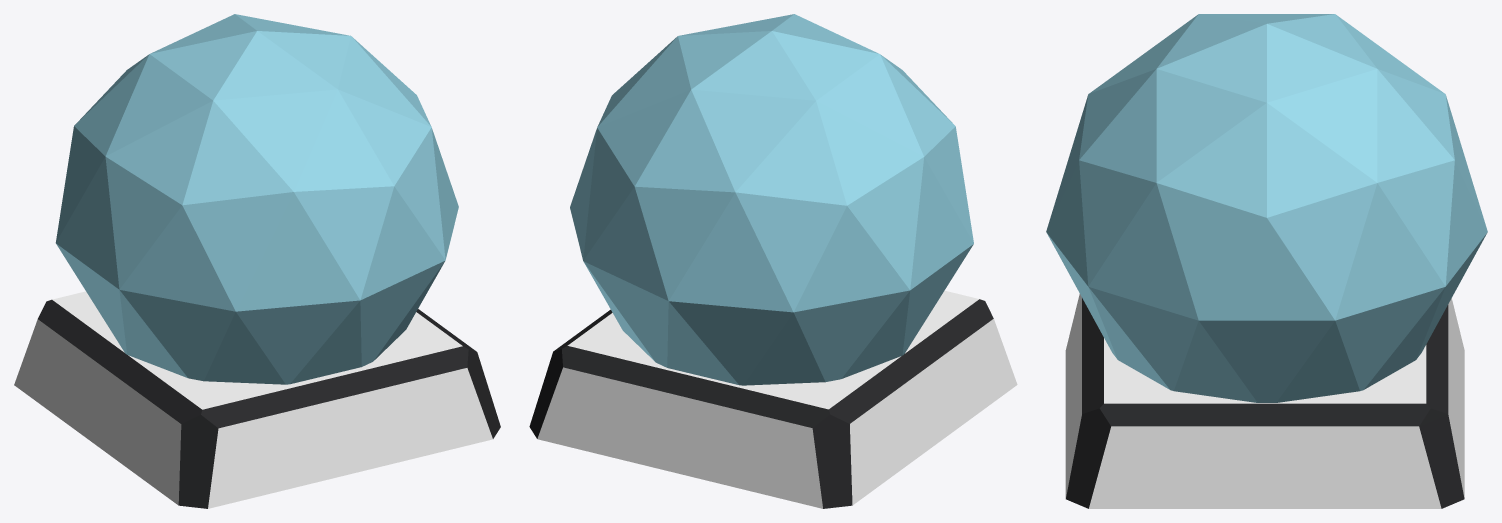
The model's file is big-base.dae.
3 renders of one model, left to right at view 1: azimuth 30°, elevation 25°; view 2: azimuth 150°, elevation 25°; view 3: azimuth 270°, elevation 25°, orthographic. The views are drawn at different scales.
Parts seen in each view (by area): view 1: Icosphere, tower; view 2: Icosphere, tower; view 3: Icosphere, tower.
Boxes of the visible parts, box(x1,y1,x2,y2) form: Icosphere: box(55, 14, 458, 384); tower: box(14, 291, 500, 508); Icosphere: box(570, 14, 973, 385); tower: box(529, 290, 1017, 508); Icosphere: box(1046, 14, 1487, 402); tower: box(1065, 294, 1464, 508).
Size of the model in its own units: 2.11 by 2.22 by 2.22.
